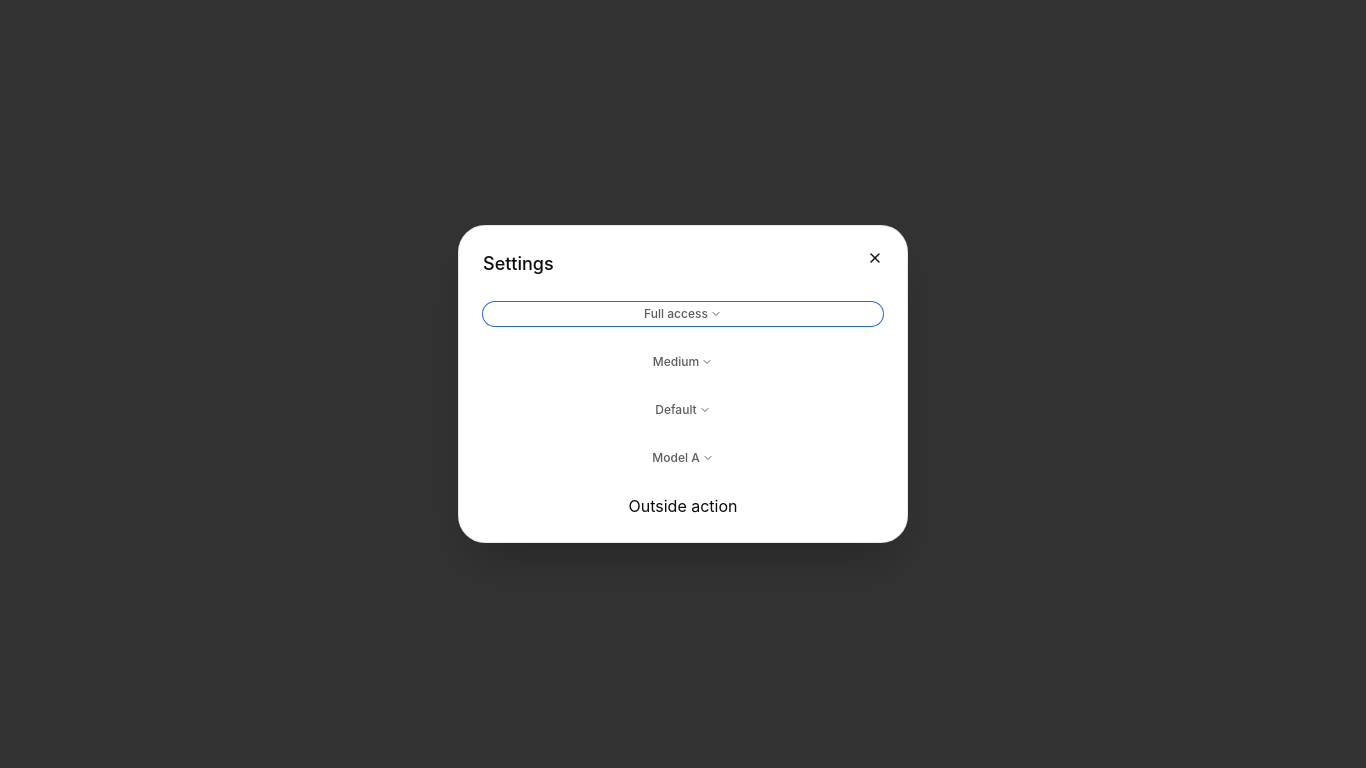
Test: composer selector handoff and motion › keeps an enclosing dialog open during sibling selector handoffs
Click the button with aria-label "Access: Full access".
click(683, 314)  # box [483,302,883,326]
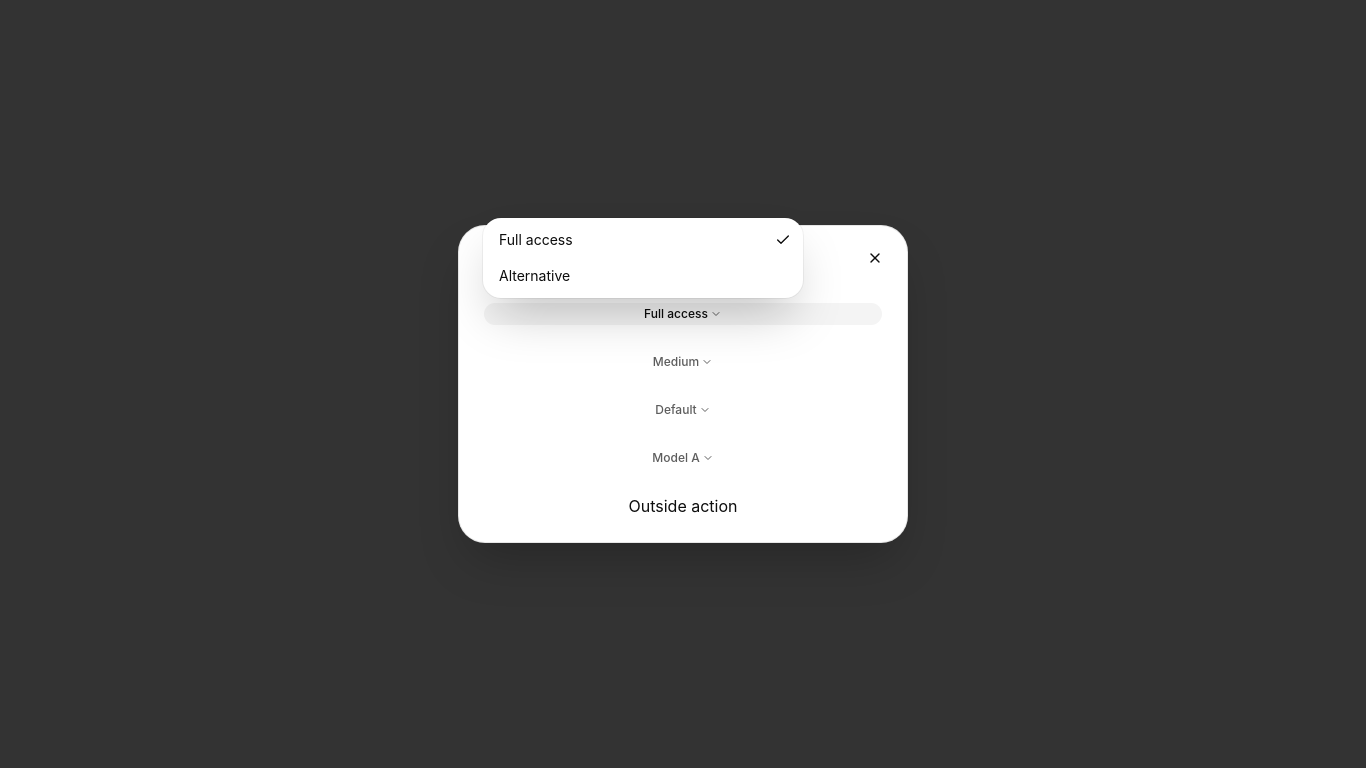
Click the button with aria-label "Reasoning: Medium".
click(683, 362)  # box [483,350,883,374]
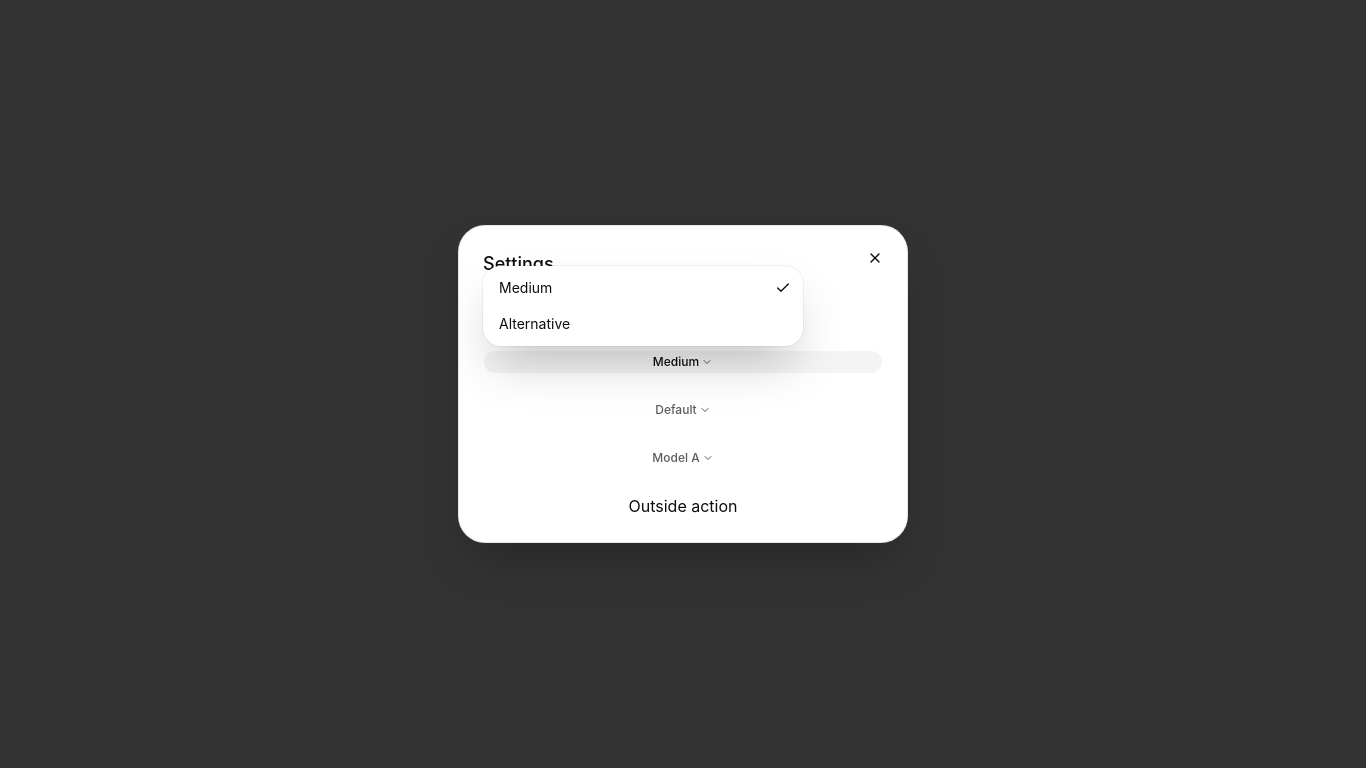
Expected: the dialog "Settings" is shown, [459,226,907,542]
Now the button with aria-label "Reasoning: Medium" is expanded, box [483,350,883,374]
